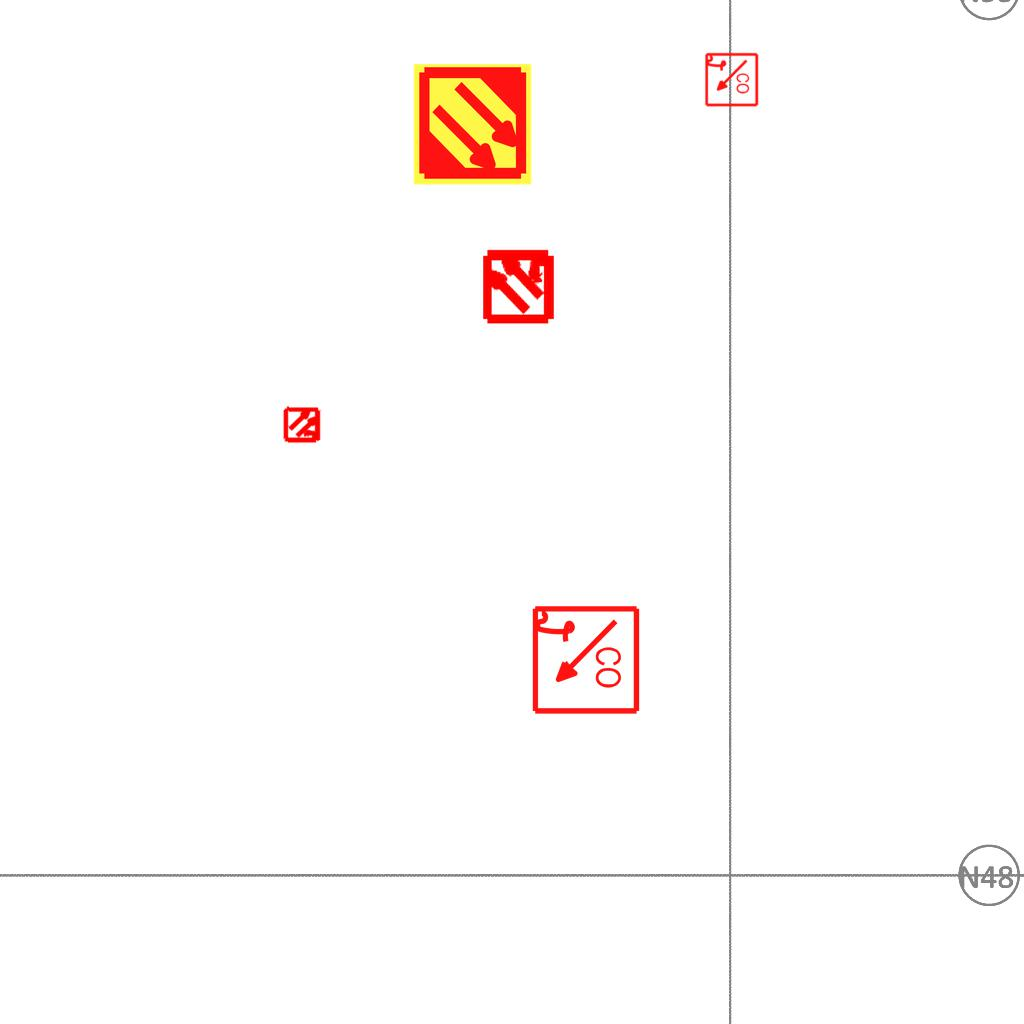ASR_Ansaugrauchmelder: (410, 62, 535, 187)
OT_Multisensormelder_(Kombination_RMO_WMD): (462, 228, 575, 341), (274, 396, 332, 454)
ROA_Rauchmelder_optisch_mit_Signalgeber_(Sockelsirene): (528, 604, 641, 717), (703, 52, 759, 108)
